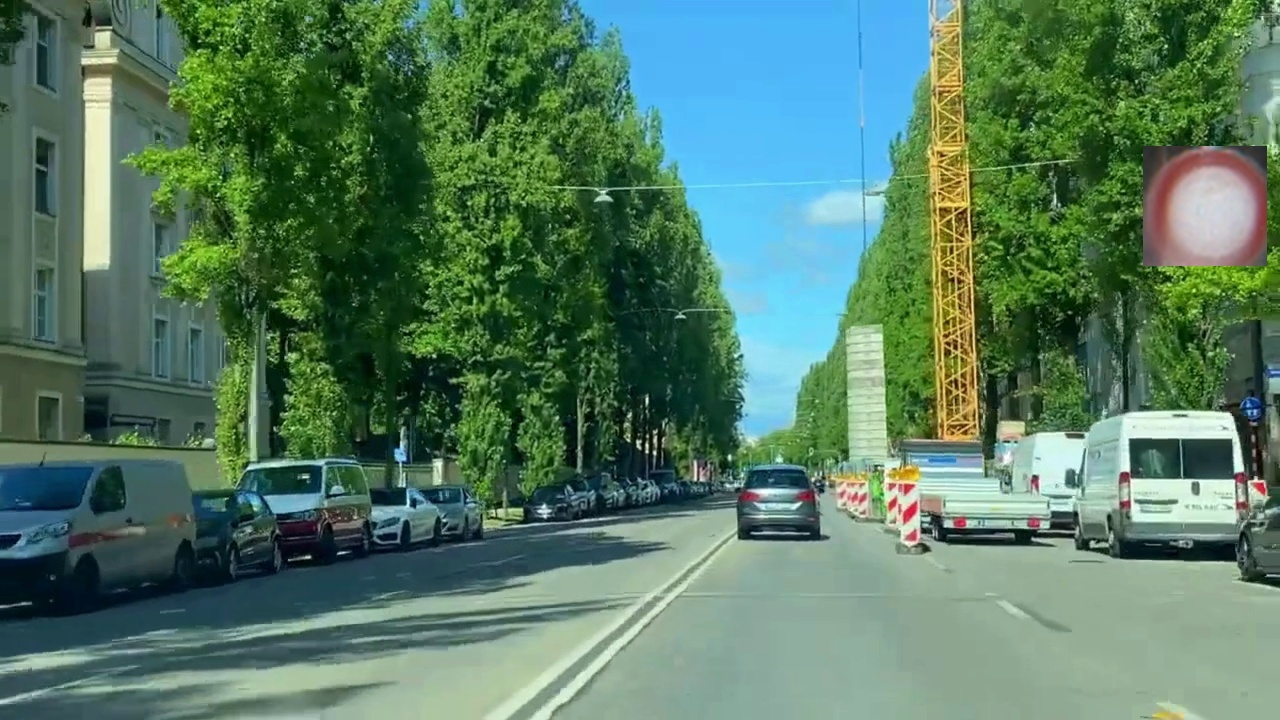No vehicles: (1143, 146, 1267, 266)
